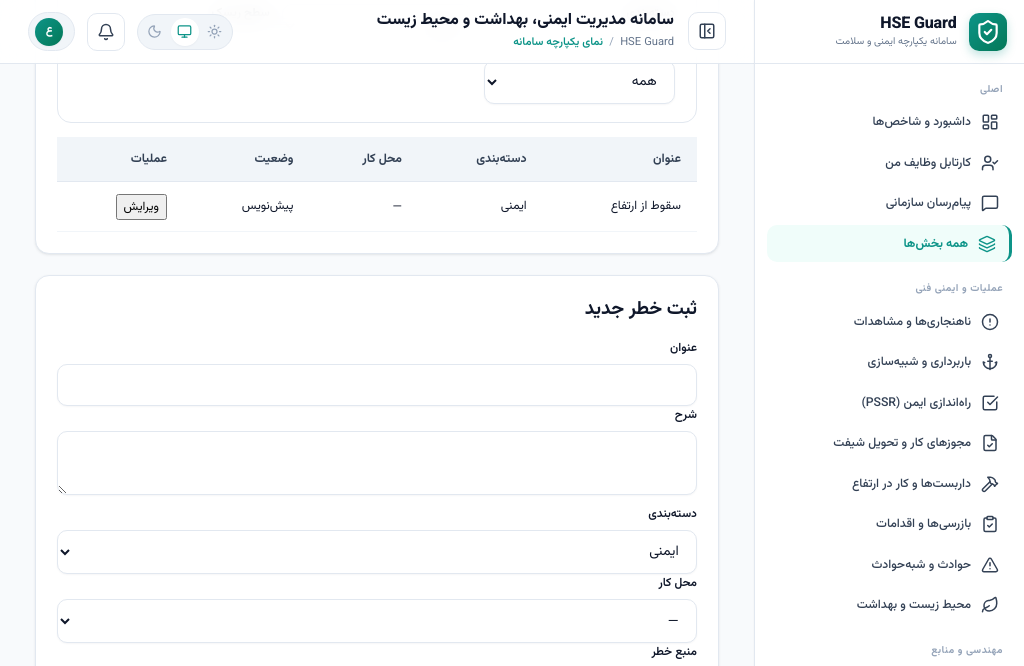
Hazard form › shows validation error from the API
(page scrolled)
Type "خطر نامعتبر" into the field labelled "عنوان" at (377, 385), box [57,364,697,406]
(page scrolled)
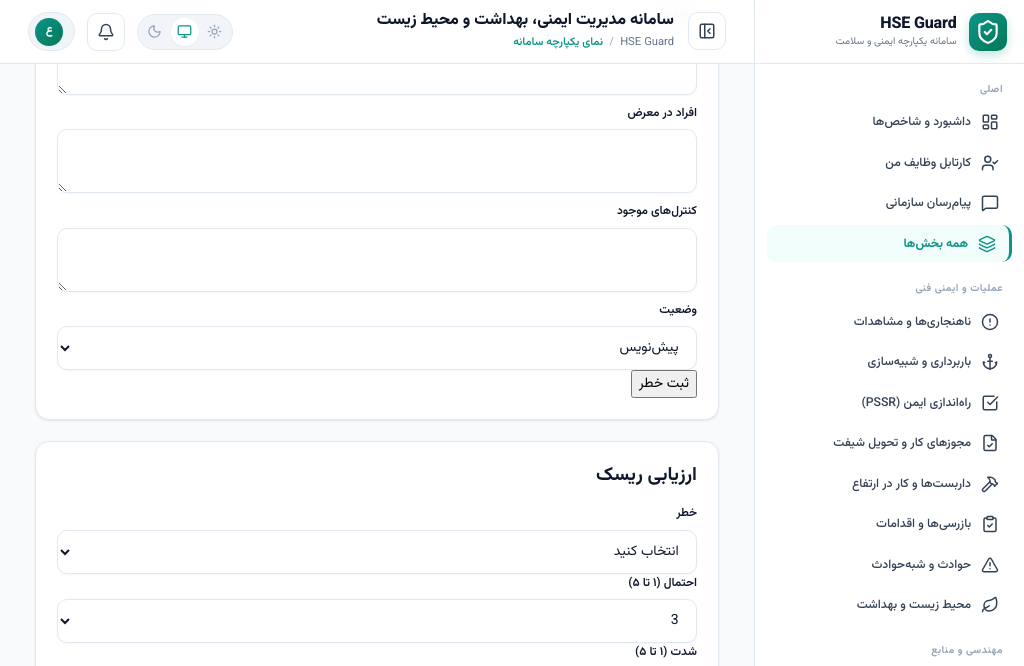
Click the button "ثبت خطر" at (664, 384), box [631,370,697,398]
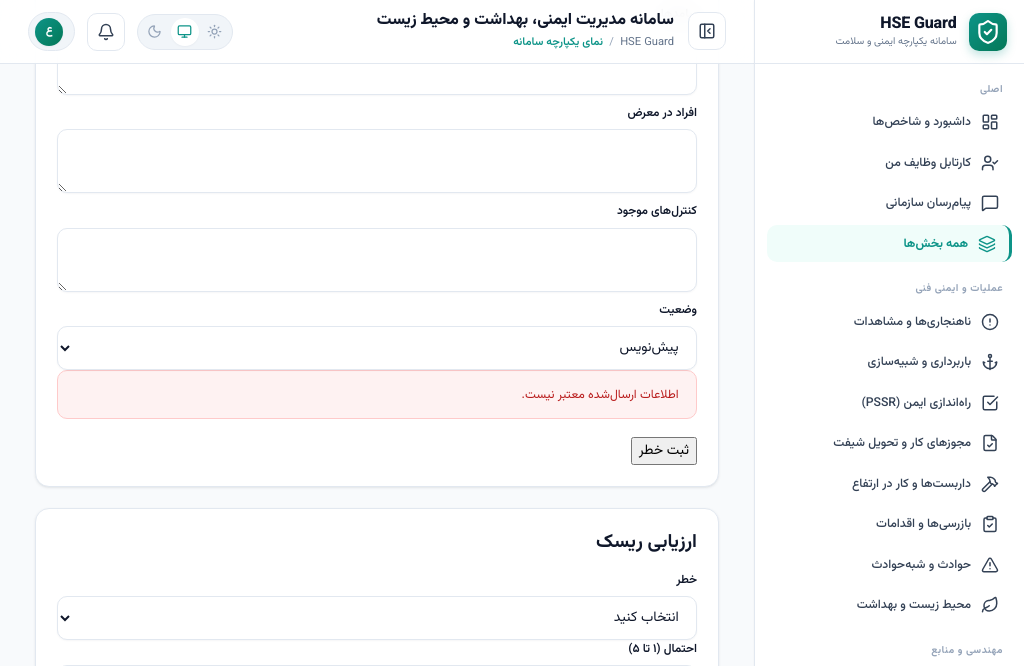
Now the message reads "اطلاعات ارسال‌شده معتبر نیست.", box [522,385,678,405]
